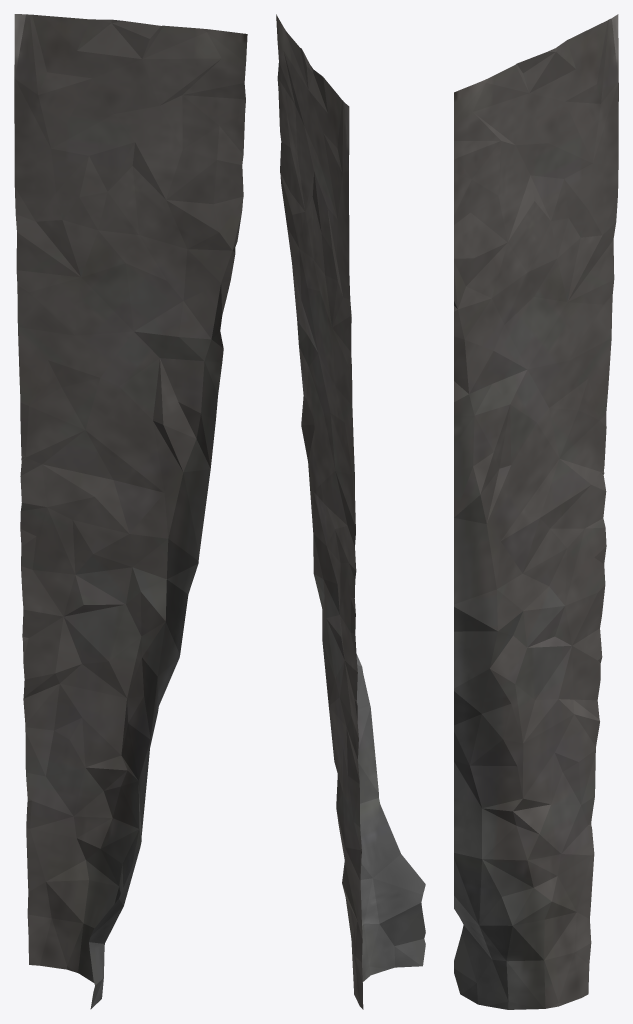
The picture shows the model from 3 angles, left to right: view 1: azimuth 30°, elevation 25°; view 2: azimuth 150°, elevation 25°; view 3: azimuth 270°, elevation 25°; orthographic projection. The views are drawn at different scales.
Bounding box in the file's own units: 0.1436 × 0.8374 × 0.1276.
1 material, 1 textured.
